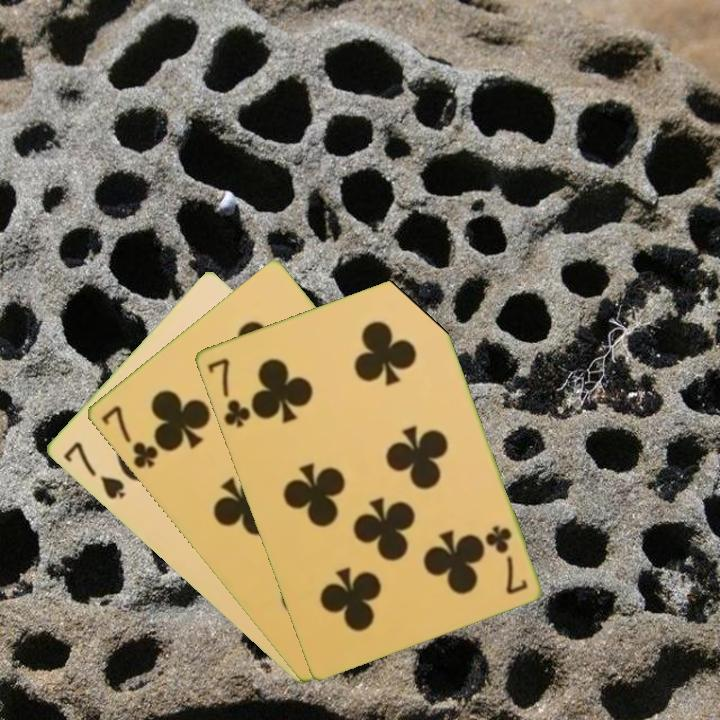7c: (97, 402, 161, 472), (203, 354, 253, 431), (482, 521, 530, 597)
7s: (58, 438, 128, 502)
